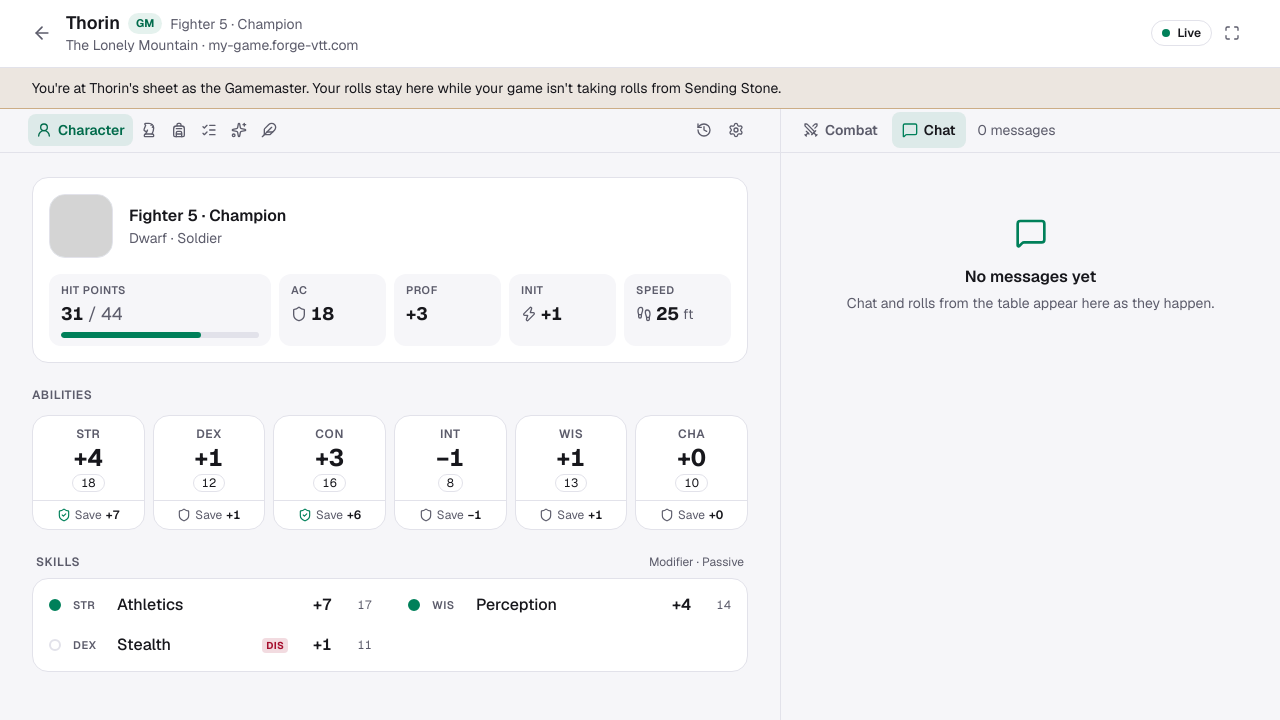
components/game-table, party sheets › opens the Gamemaster's through their campaign
What coordinates should you click on to do the following:
click the tab named "Inventory"
I would click on:
 (179, 130)
Its box is [165,114,193,146].
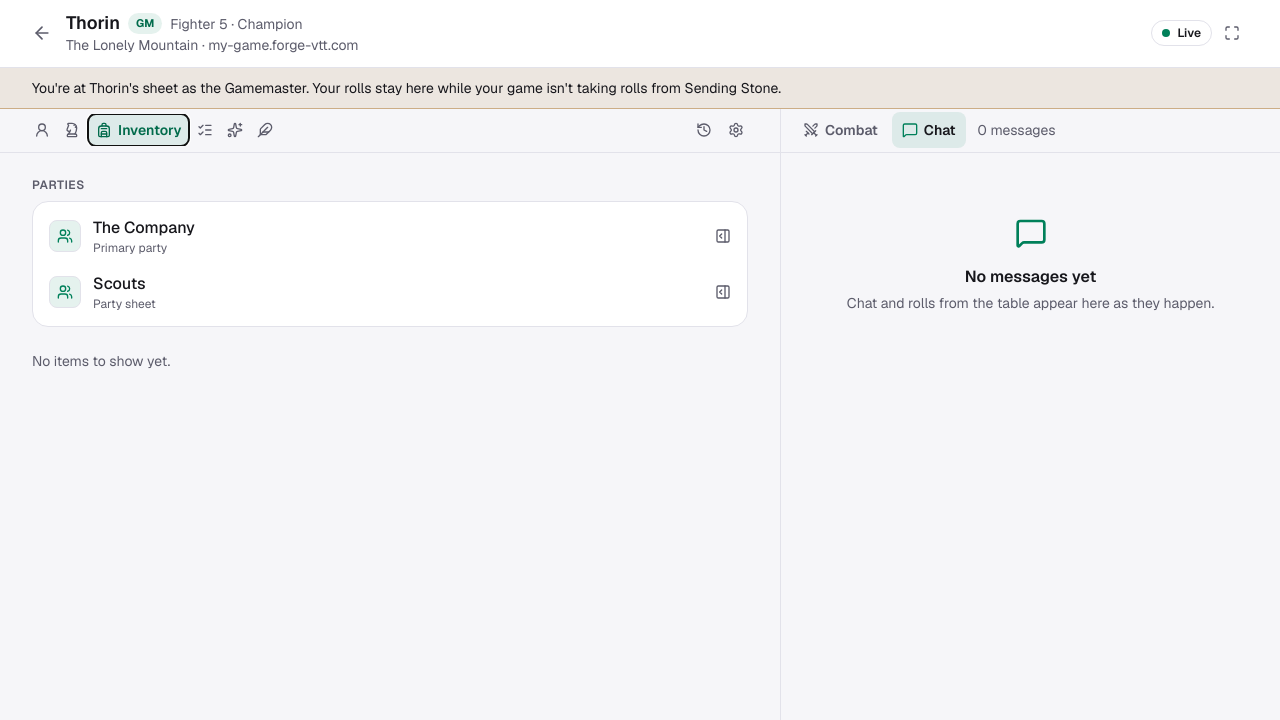
What coordinates should you click on to do the following:
click the button "Scouts Party sheet"
I would click on:
 (65, 292)
Its box is [39,264,741,320].
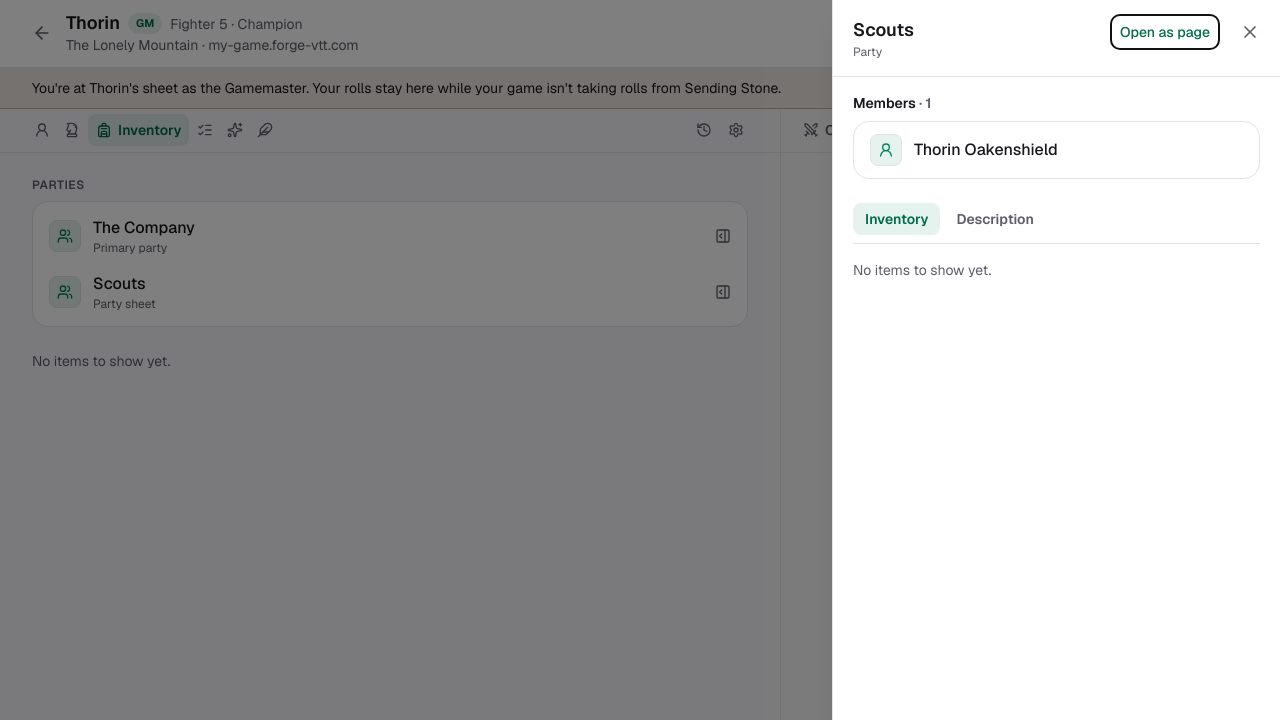
Result: the heading "Members · 1" is shown at [853,94,931,112]
